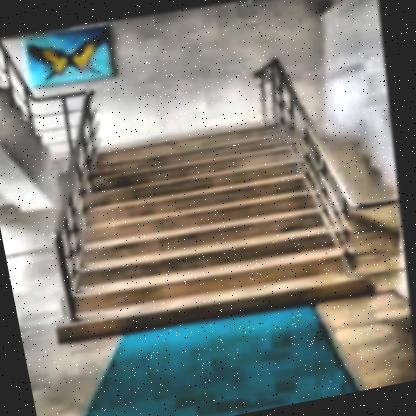stair: (22, 76, 380, 358)
